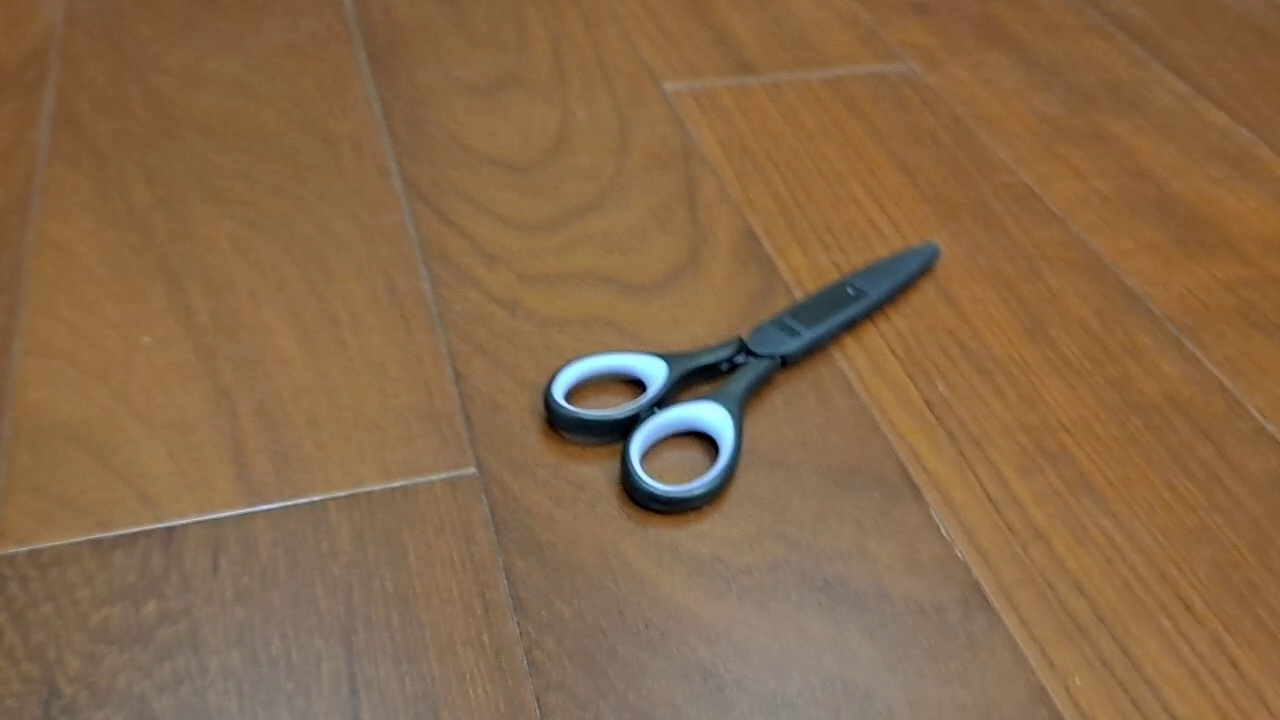scissors: (541, 240, 944, 516)
